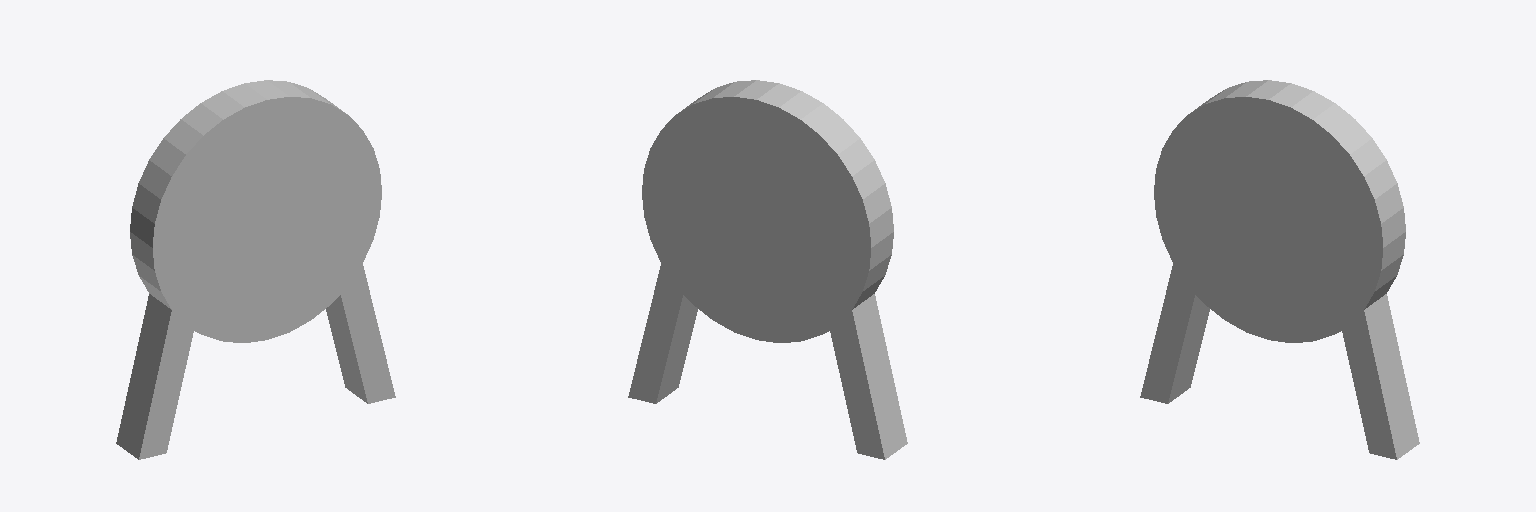
The model's file is roughTarget.obj.
3 views of the same model, side by side, from view 1: azimuth 30°, elevation 25°; view 2: azimuth 150°, elevation 25°; view 3: azimuth 330°, elevation 25° (orthographic).
Parts seen in each view (by area): view 1: Circle; view 2: Circle; view 3: Circle.
Boxes of the visible parts, box(x1,y1,x2,y2) form: Circle: box(116, 80, 395, 459); Circle: box(628, 80, 907, 459); Circle: box(1140, 80, 1419, 459).
Size of the model in its own units: 1.1 by 1.35 by 0.1689.